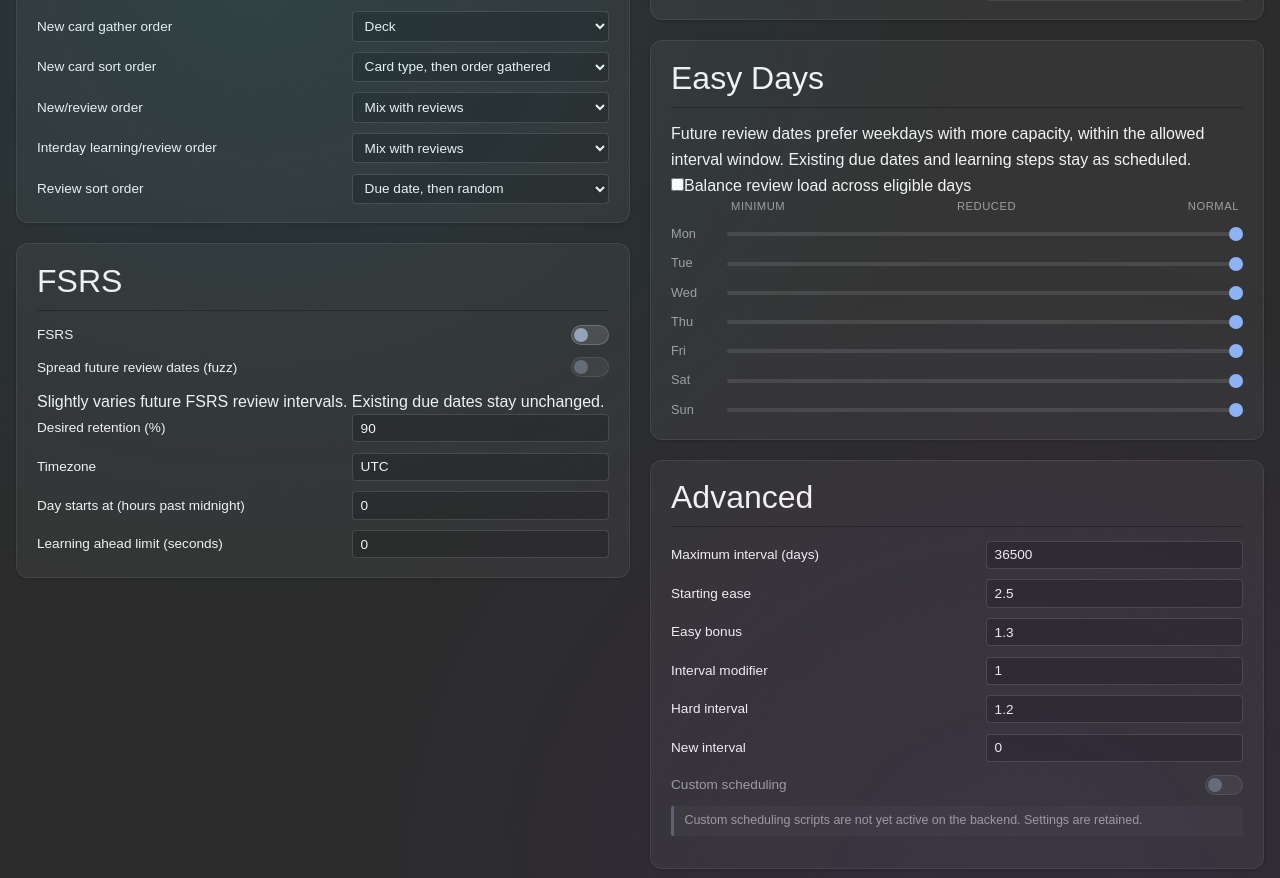
Scenario: OptionsScheduling (FSRS & Supported Scheduling Settings) › FSRS Panel & Desired Retention › validates desired retention percentage bounds (70% - 99%)
(page scrolled)
Out of bounds: 65%
Replace the text in the number field labelled "Desired retention (%)" with "65" at (480, 428), box [352,414,609,442]
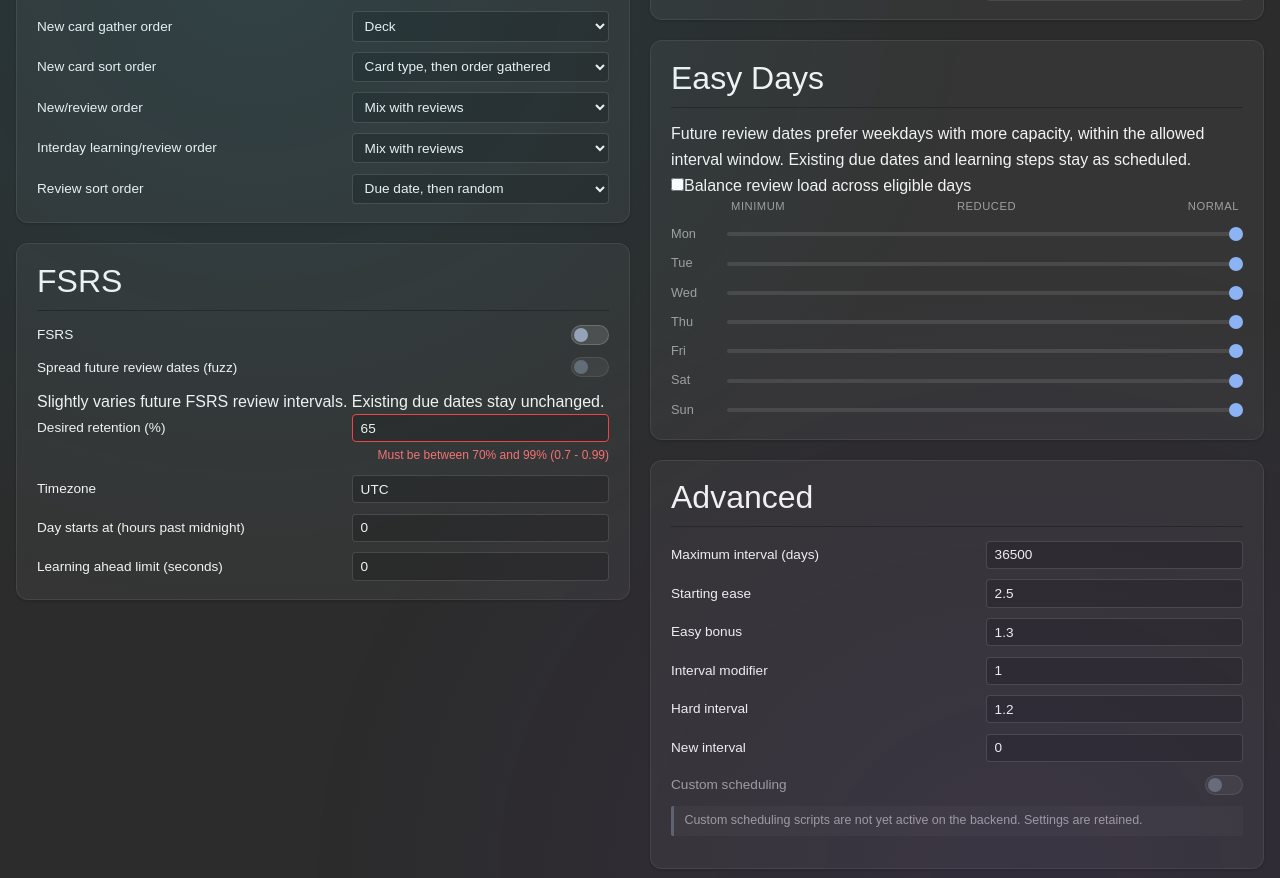
Now the text "Must be between 70% and 99% (0.7 - 0.99)" is shown, box [378,446,609,465]
Out of bounds: 105%
Replace the text in the number field labelled "Desired retention (%)" with "105" at (480, 428), box [352,414,609,442]
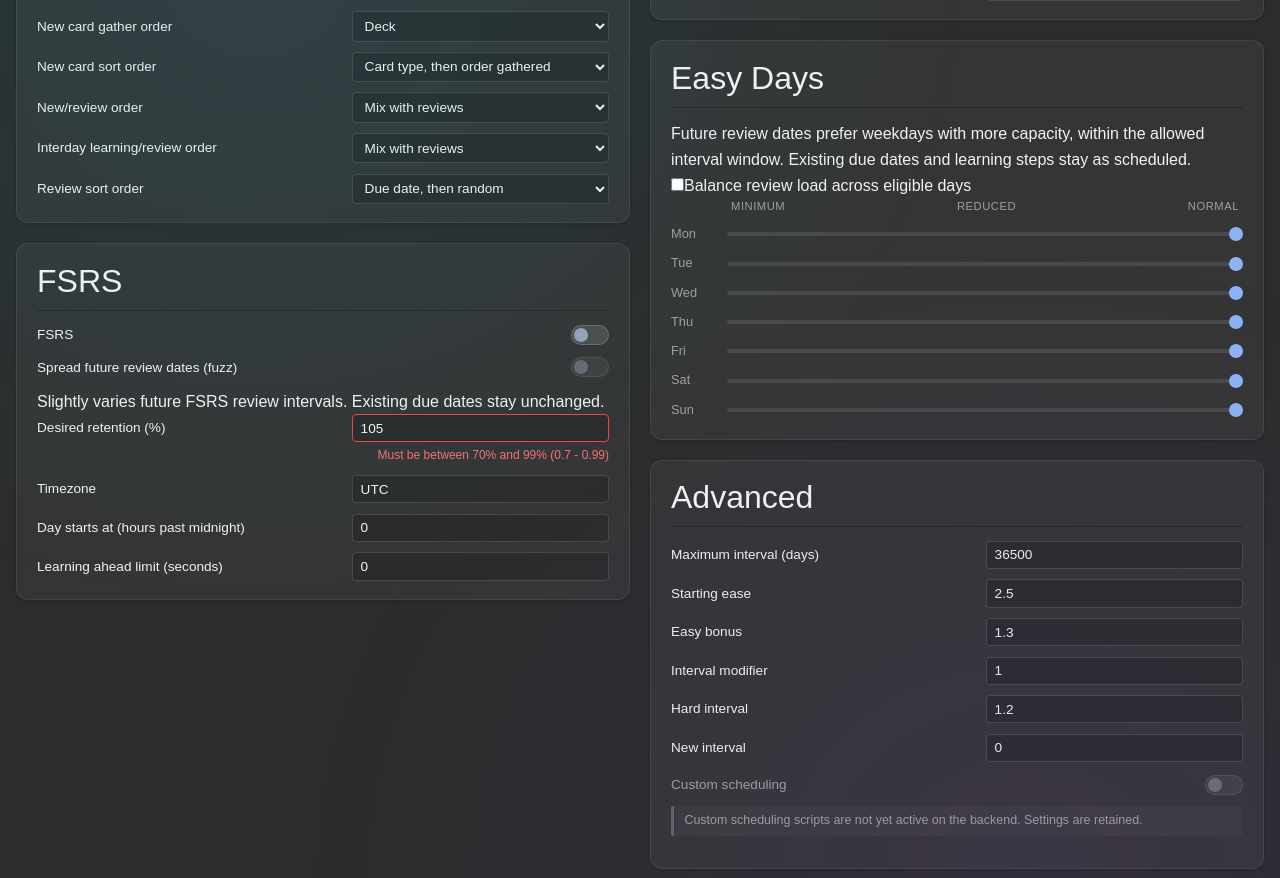
Now the text "Must be between 70% and 99% (0.7 - 0.99)" is shown, box [378,446,609,465]
Valid: 95%
Replace the text in the number field labelled "Desired retention (%)" with "95" at (480, 428), box [352,414,609,442]
(page scrolled)
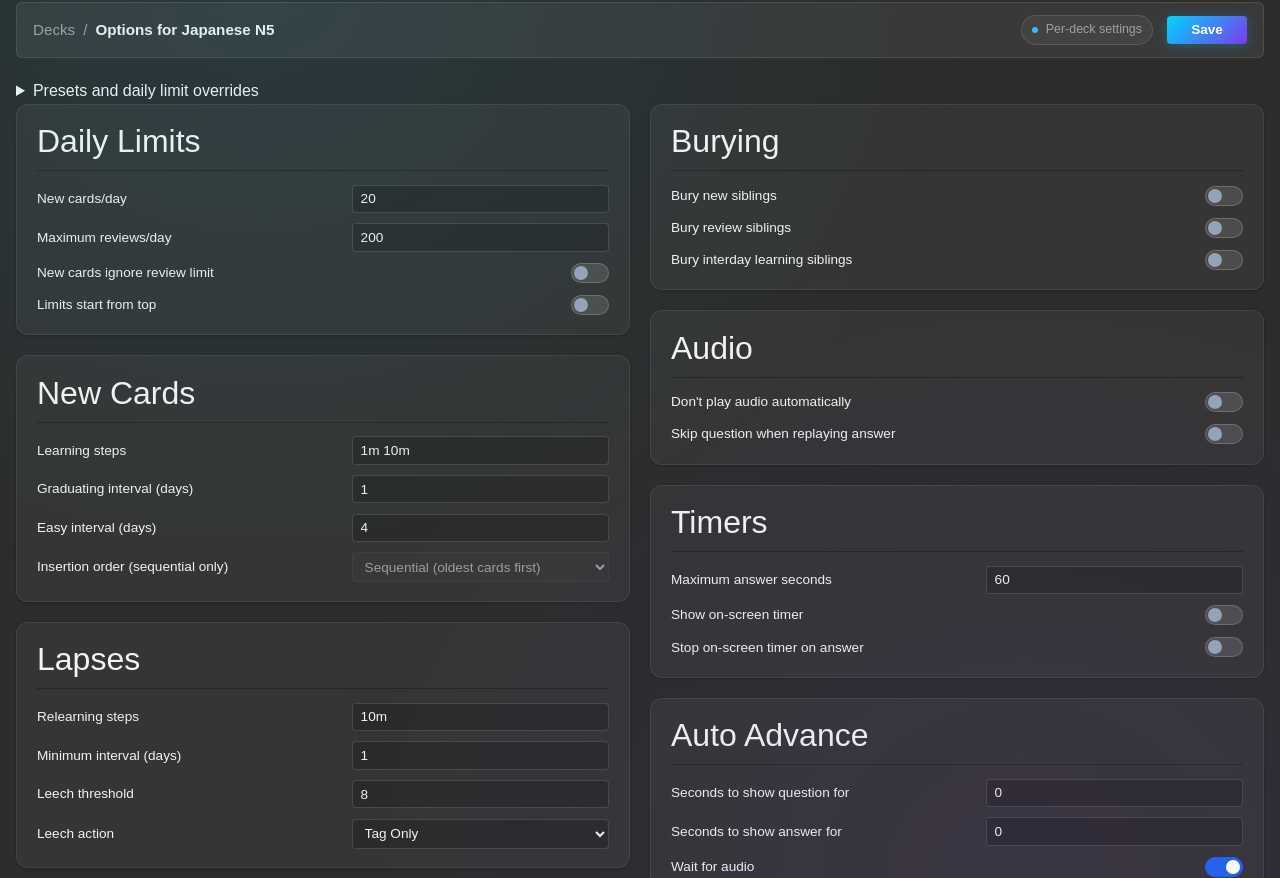
Now the text "Must be between 70% and 99% (0.7 - 0.99)" is gone
Now the button "Save" is enabled, box [1167,16,1247,44]
